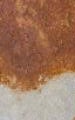Corrosion: (1, 1, 75, 93)
